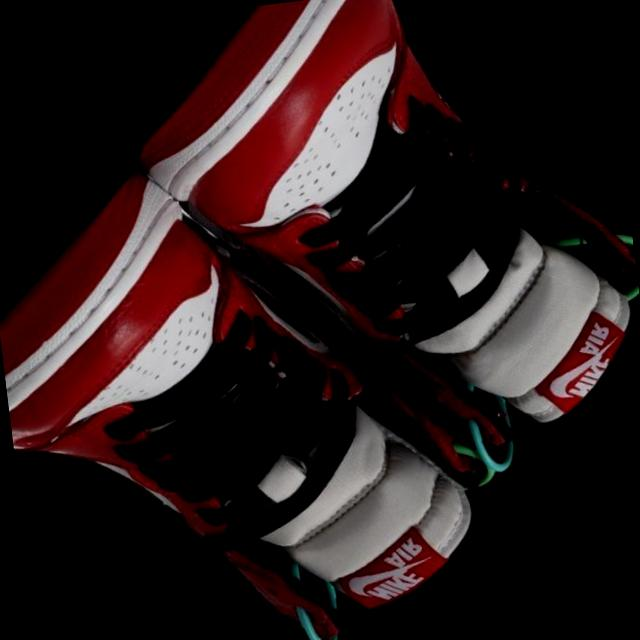nike_original_jordan: (109, 0, 640, 530), (0, 114, 532, 640)
